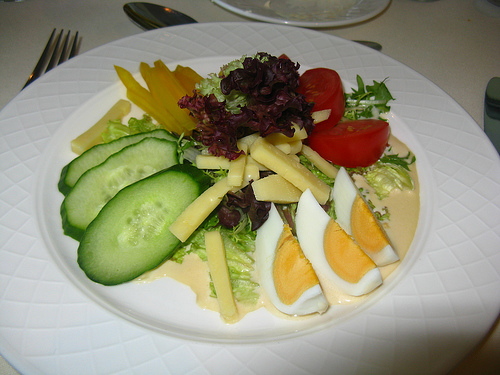cucumber: (76, 170, 201, 287), (59, 137, 180, 240)
